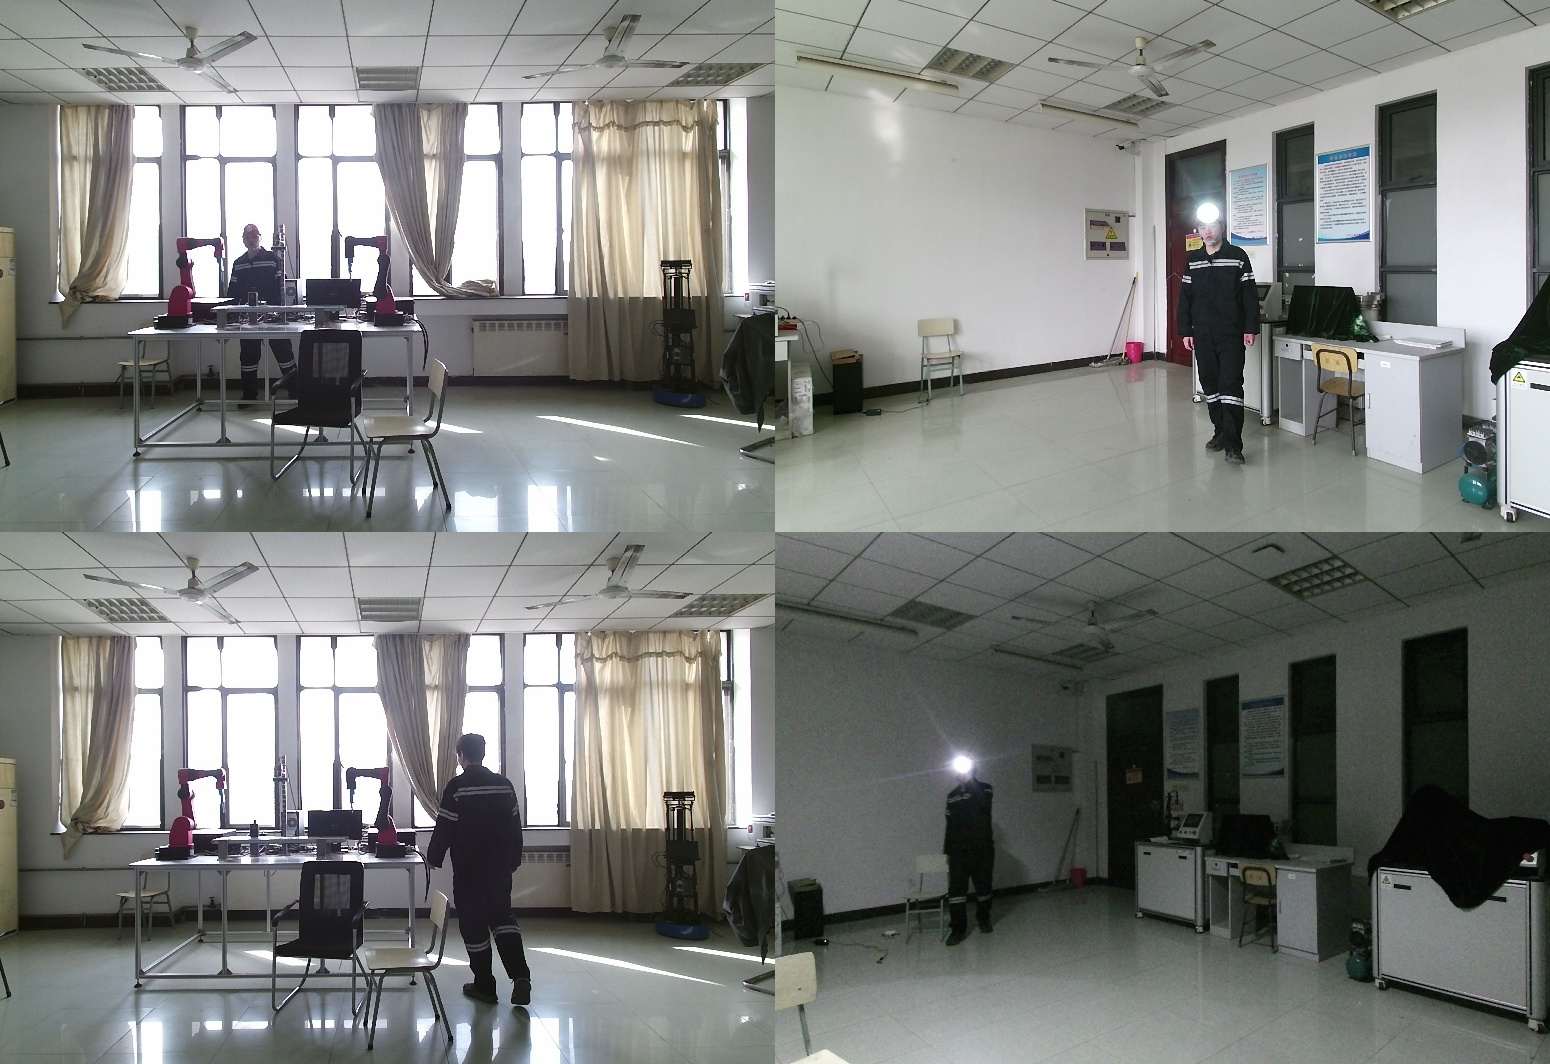person: (432, 736, 538, 1006), (1177, 204, 1272, 469), (224, 224, 300, 409), (935, 753, 1000, 953)
